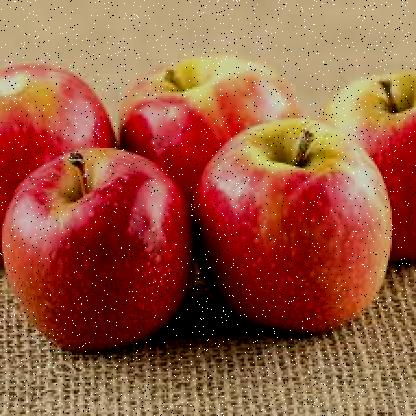apple: (200, 132, 402, 328), (13, 161, 187, 335), (128, 52, 312, 204), (0, 62, 120, 216), (327, 70, 414, 252)
